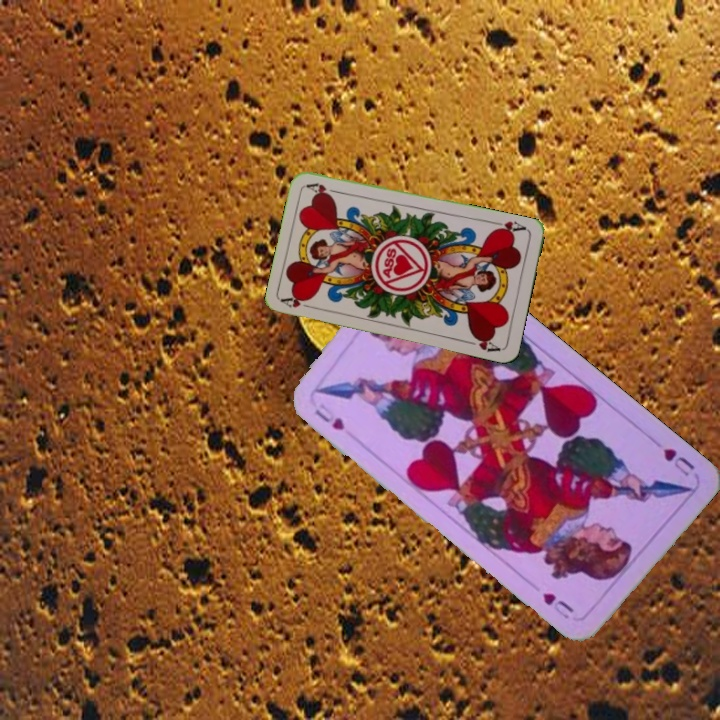HA: (488, 217, 529, 237), (279, 292, 319, 312)
HU: (659, 444, 697, 479), (310, 399, 347, 434)
